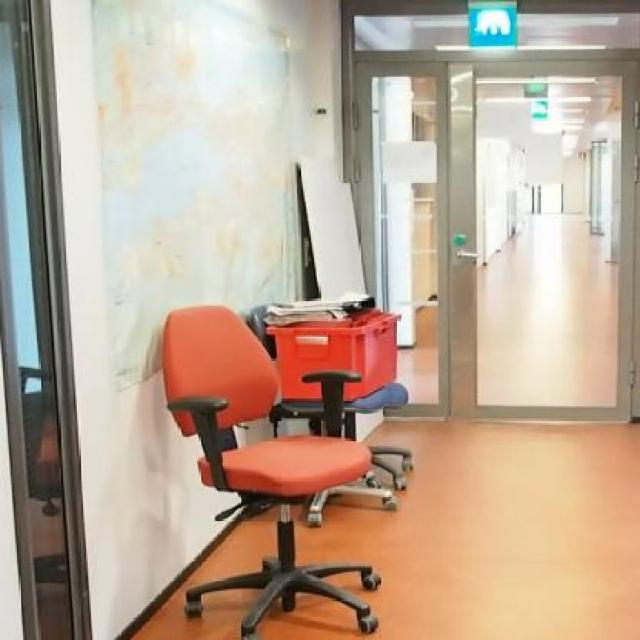emergency_exit: (466, 0, 519, 48), (522, 81, 550, 121)
